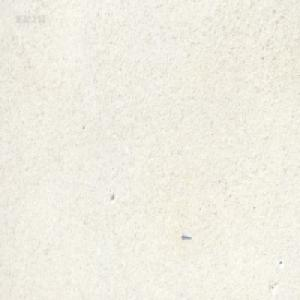Nail: (180, 232, 191, 240)
